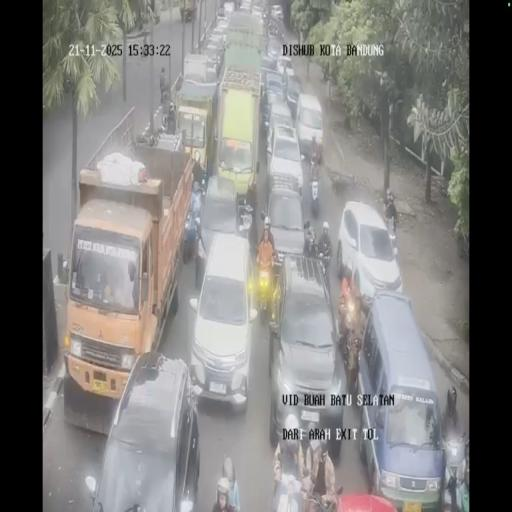3: (173, 68, 218, 178), (221, 8, 263, 78), (179, 0, 197, 22)
car: (355, 291, 443, 503), (90, 351, 200, 508), (268, 256, 345, 452), (336, 200, 402, 305), (196, 174, 245, 284), (263, 186, 305, 268), (266, 117, 304, 198), (294, 94, 324, 159), (262, 71, 286, 130), (284, 70, 302, 118), (202, 42, 224, 76), (276, 54, 294, 80), (260, 48, 278, 71), (251, 2, 265, 22), (215, 4, 229, 22), (269, 4, 283, 21), (239, 0, 253, 12)
truck: (254, 251, 279, 321), (182, 198, 199, 266), (236, 202, 254, 246), (308, 161, 322, 214), (385, 216, 399, 258), (317, 246, 331, 279), (314, 137, 323, 165), (268, 18, 278, 36)
